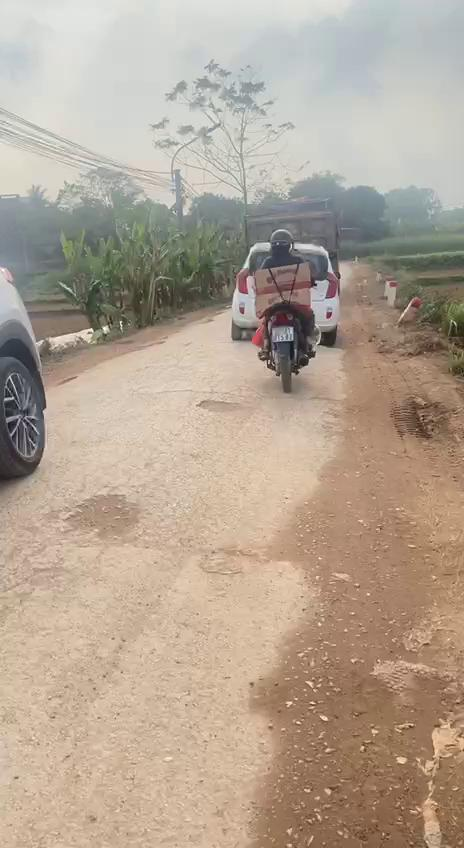pothole: (66, 490, 142, 540), (199, 393, 241, 418)
